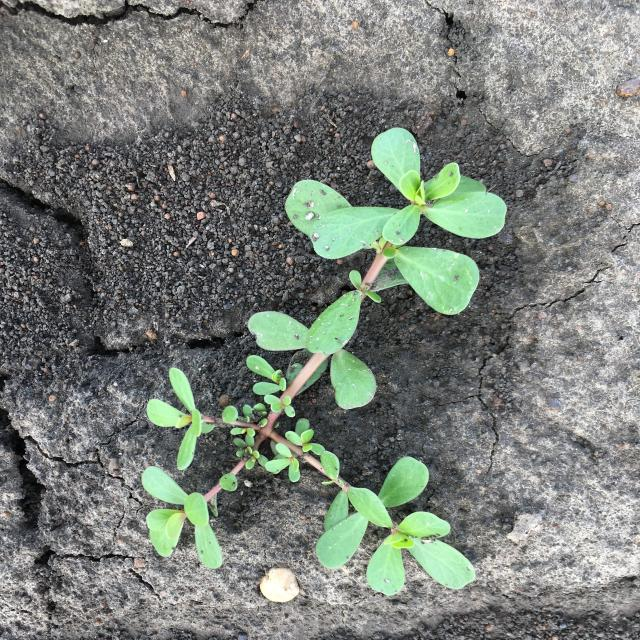Purslane: (141, 128, 507, 596)
